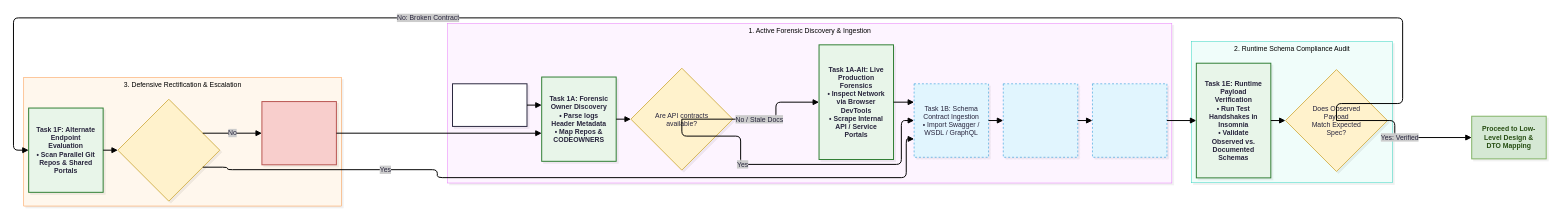
Some shapes in this 1557 by 217 pixel diagram are drawn without their labels. Here are the shapes that lost their labels. From the top down, the centre of each, then its label:
At (490,106): "Backlog: Pull Solutioning Story".
At (1041,121): "Task 1C: Sandbox Token Provisioning • Fetch APIGee App Keys / OAuth Tokens".
At (1130,121): "Task 1D: Test Data Profile Acquisition • Extract Synthetic Mock Payloads".
At (169,150): "Is a viable alternate API discovered?".
At (300,134): "MARK STORY BLOCKED Log Evidence & Trigger SLA Escalation".
